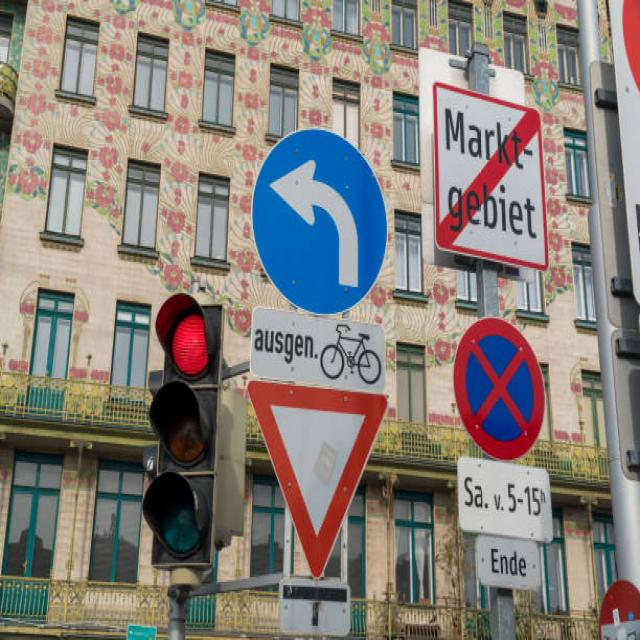give_way: (243, 370, 384, 590)
no_parking: (452, 309, 553, 465)
